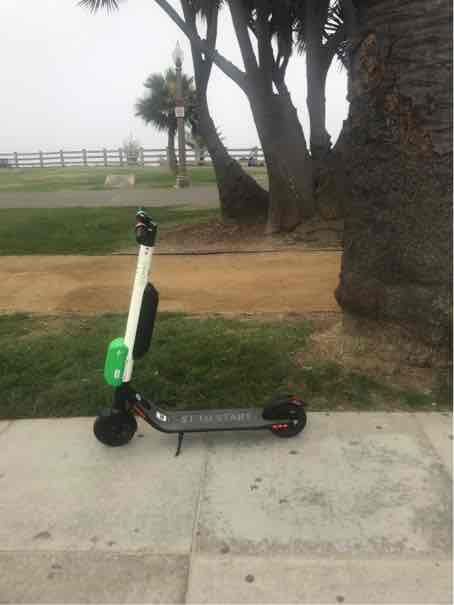scooter: (85, 204, 322, 450)
